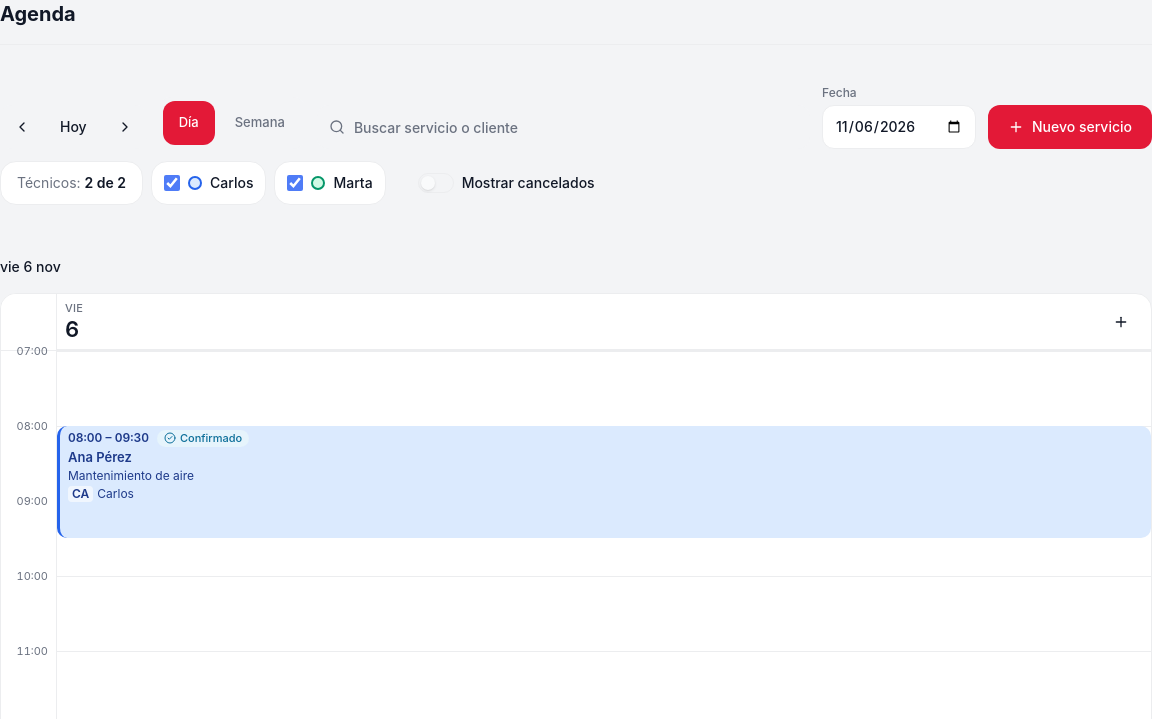
AgendaPage: comandos y actualización de la agenda (UI-R4) › mueve la cita a otro cupo y la agenda la muestra en su nuevo horario y técnico
This screenshot has width=1152, height=719.
Click the button "Ana Pérez".
click(108, 438)  # box [57,426,1151,538]
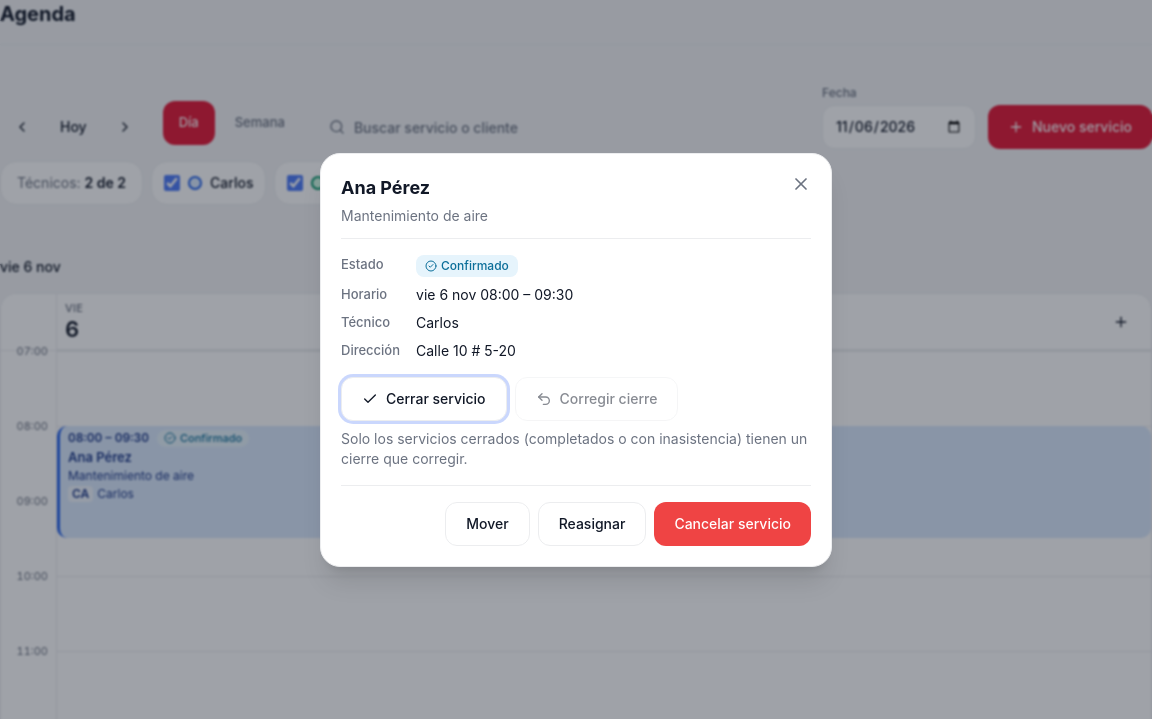
Click the button "Mover".
click(488, 524)  # box [445,502,530,546]
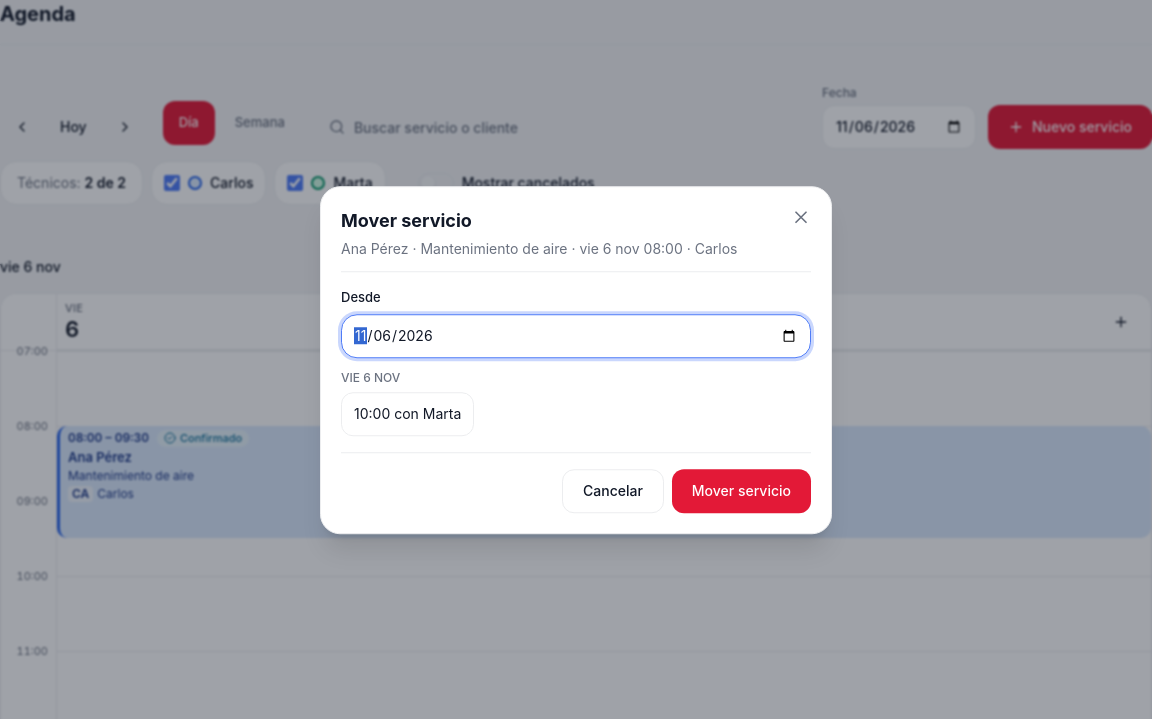
Click the radio button labelled "10:00 con Marta".
click(408, 414)  # box [341,392,474,436]
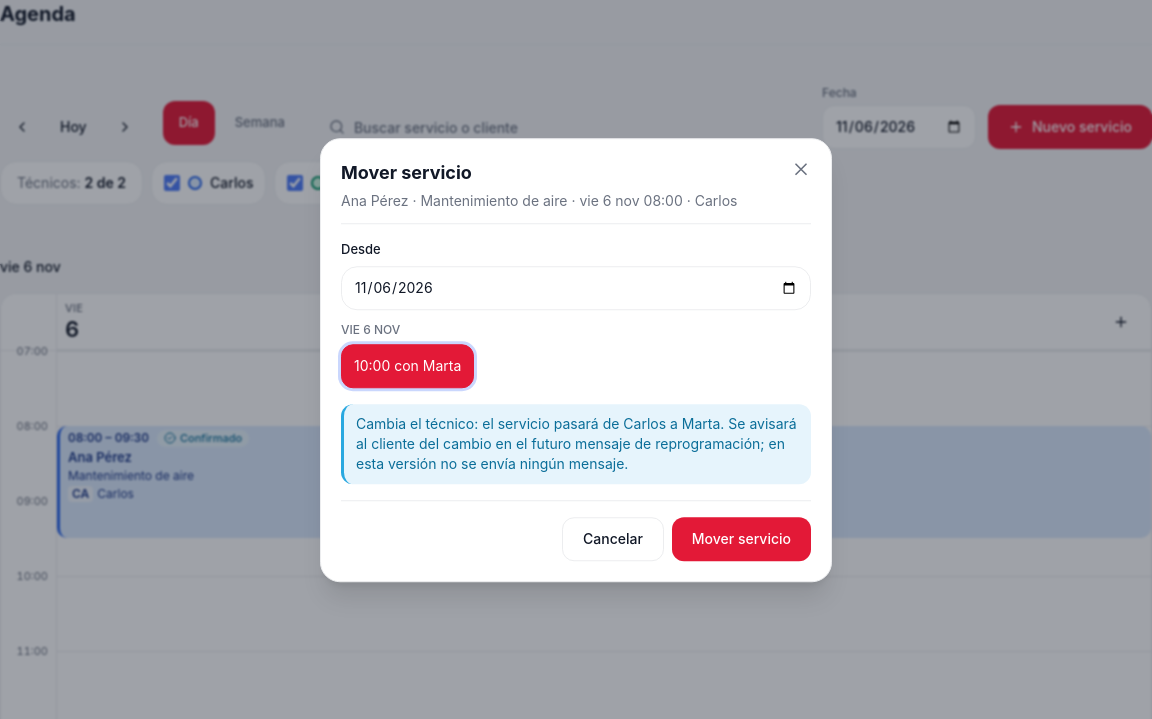
Expected: the message shows "Cambia el técnico", [356,415,623,432]
Click the button "Mover servicio".
click(741, 539)  # box [672,517,811,561]
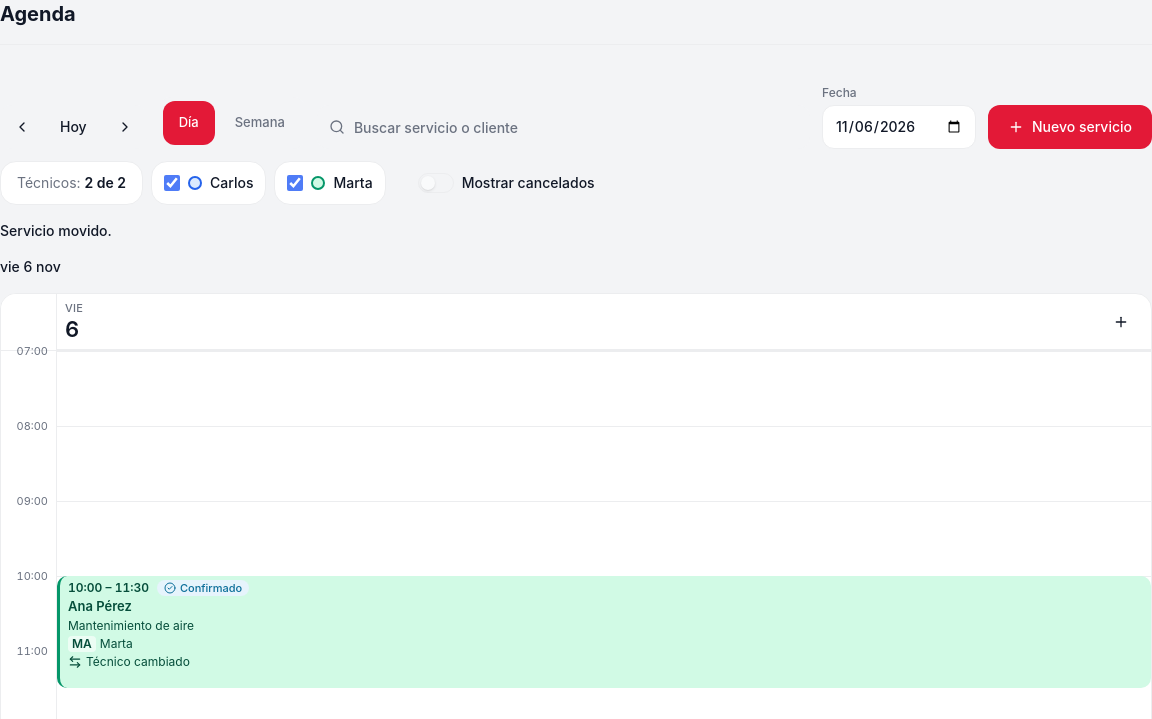
Expected: the button "Técnico Carlos" is not shown
Expected: the text "Servicio movido." is shown, [0,222,112,239]
Expected: the button with aria-label "10:00 a 11:30, Ana Pérez, Mantenimiento de aire, técnico Mar" is shown, [57,576,1151,688]
